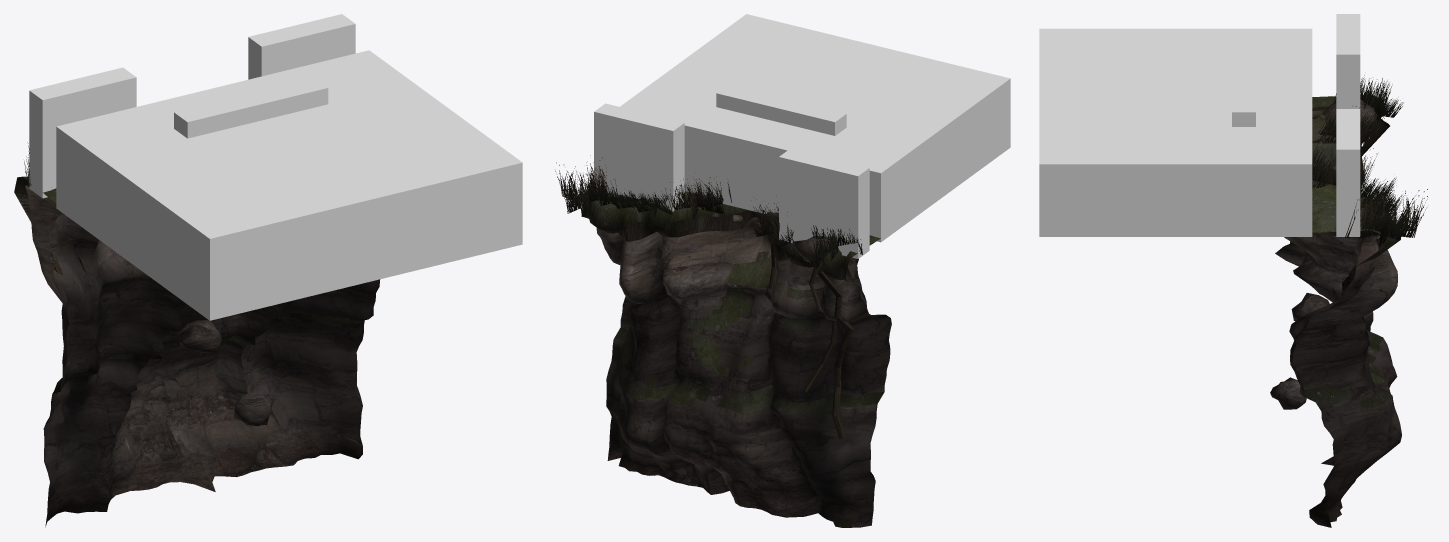
Rendered from cliff_edge_broken_lip_4m.glb.
The picture shows the model from 3 angles, left to right: view 1: azimuth 30°, elevation 25°; view 2: azimuth 150°, elevation 25°; view 3: azimuth 270°, elevation 25°; orthographic projection. The views are drawn at different scales.
Visible parts, largest first — view 1: col_walk_cliff_edge_broken_lip_4m, cliff_edge_broken_lip_4m, col_block_rim_cliff_edge_broken_lip_4m_0, col_block_rim_cliff_edge_broken_lip_4m_1, col_block_rim_cliff_edge_broken_lip_4m_2; view 2: cliff_edge_broken_lip_4m, col_walk_cliff_edge_broken_lip_4m, col_block_rim_cliff_edge_broken_lip_4m_0, col_block_rim_cliff_edge_broken_lip_4m_1, col_block_rim_cliff_edge_broken_lip_4m_2; view 3: col_walk_cliff_edge_broken_lip_4m, cliff_edge_broken_lip_4m, col_block_rim_cliff_edge_broken_lip_4m_1, col_block_rim_cliff_edge_broken_lip_4m_0, col_block_rim_cliff_edge_broken_lip_4m_2.
Boxes of the visible parts, x1,y1,x2,y2 form: col_walk_cliff_edge_broken_lip_4m: (56,50,522,320); cliff_edge_broken_lip_4m: (14,142,380,527); col_block_rim_cliff_edge_broken_lip_4m_0: (29,67,136,198); col_block_rim_cliff_edge_broken_lip_4m_1: (248,14,355,79); col_block_rim_cliff_edge_broken_lip_4m_2: (174,78,328,138); cliff_edge_broken_lip_4m: (555,155,891,527); col_walk_cliff_edge_broken_lip_4m: (620,14,1010,242); col_block_rim_cliff_edge_broken_lip_4m_0: (779,148,869,258); col_block_rim_cliff_edge_broken_lip_4m_1: (594,103,684,211); col_block_rim_cliff_edge_broken_lip_4m_2: (716,85,846,135); col_walk_cliff_edge_broken_lip_4m: (1039,28,1312,236); cliff_edge_broken_lip_4m: (1270,75,1427,527); col_block_rim_cliff_edge_broken_lip_4m_1: (1336,109,1360,236); col_block_rim_cliff_edge_broken_lip_4m_0: (1336,14,1360,108); col_block_rim_cliff_edge_broken_lip_4m_2: (1232,51,1255,126).
Bounding box in the file's own units: 4.46 × 5.2 × 4.92.
Materials: 5 (5 with a texture image).
